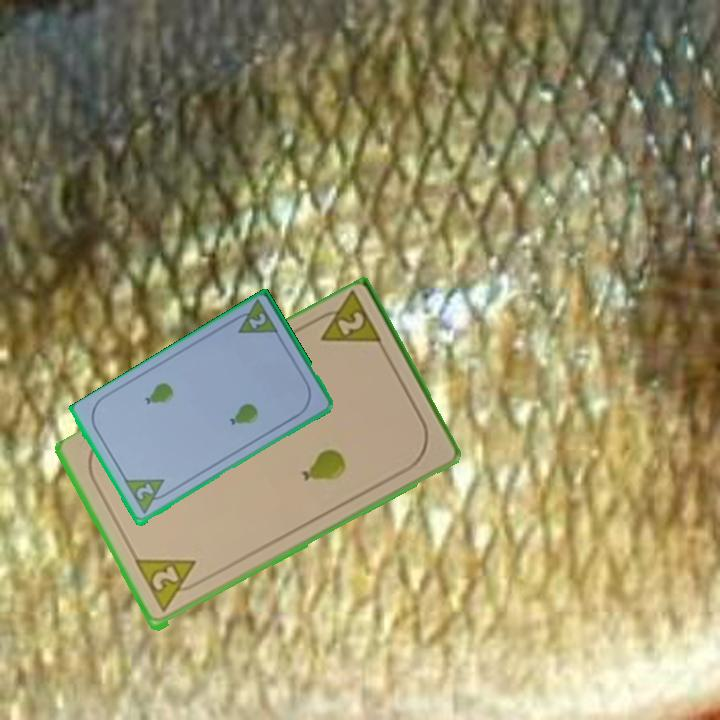2p: (132, 555, 207, 617), (228, 297, 282, 338), (333, 308, 367, 339), (132, 480, 156, 503)
